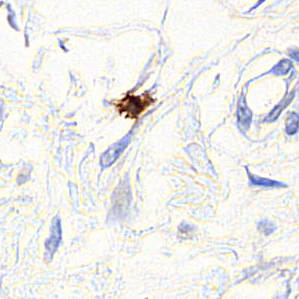Lymphocyte: (113, 92, 154, 118)
